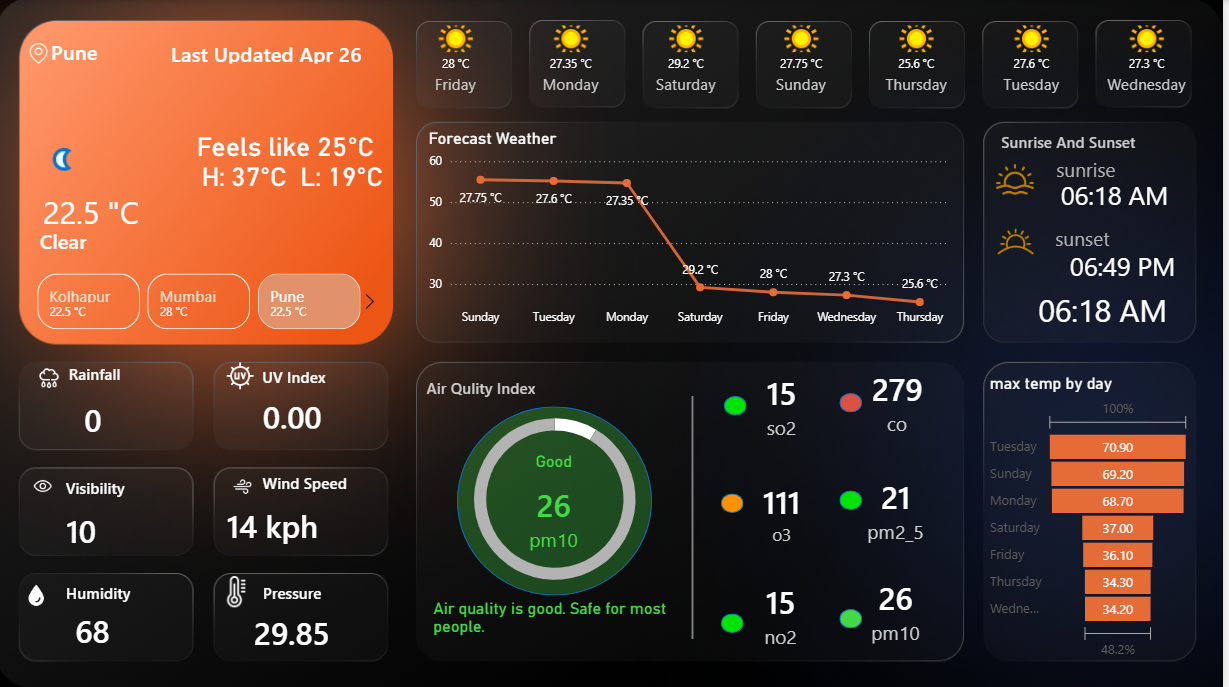

Layout of this report page (visuals, bound fields, positions):
{"tool":"powerbi","page":{"name":"Page 1","canvas":[1280,720],"ordinal":0},"visuals":[{"type":"shape","box":[1106.6,176.6,154.7,53.1],"z":0,"group":"g1"},{"type":"advancedSlicerVisual","fields":{"Values":["Locations.location.name"]},"box":[18.8,279.8,387.6,68.8],"z":0},{"type":"shape","box":[42.2,167.2,192.2,104.7],"z":1000},{"type":"shape","box":[1116,248.5,150,54.7],"z":1000,"group":"g1"},{"type":"shape","box":[1101.9,150,115.7,53.1],"z":2000,"group":"g1"},{"type":"shape","box":[42.2,220.4,123.5,59.4],"z":2000},{"type":"shape","box":[56.3,37.5,96.9,28.1],"z":3000},{"type":"shape","box":[1101.9,229.7,78.1,37.5],"z":3000,"group":"g1"},{"type":"shape","box":[181.3,39.1,212.6,29.7],"z":4000},{"type":"image","box":[34.4,42.2,21.9,26.6],"z":5000},{"type":"cardVisual","fields":{"Data":["Min(current.current.condition.icon)"]},"box":[18.8,100,106.3,98.5],"z":6000},{"type":"image","box":[28.1,495.5,43.8,21.9],"z":7000},{"type":"image","box":[35.9,381.4,40.6,25],"z":8000},{"type":"image","box":[234.4,600.2,34.4,32.8],"z":9000},{"type":"image","box":[239.1,497,37.5,20.3],"z":10000},{"type":"image","box":[31.3,608,23.4,25],"z":11000},{"type":"image","box":[234.4,376.7,42.2,29.7],"z":12000},{"type":"shape","box":[71.9,495.5,103.2,25],"z":13000},{"type":"shape","box":[75,376.7,106.3,25],"z":14000},{"type":"shape","box":[276.6,379.8,103.2,25],"z":15000},{"type":"shape","box":[71.9,603.3,109.4,29.7],"z":16000},{"type":"shape","box":[276.6,600.2,89.1,34.4],"z":17000},{"type":"shape","box":[276.6,489.2,109.4,28.1],"z":18000},{"type":"cardVisual","fields":{"Data":["Sum(current.current.humidity)"]},"box":[54.7,617.4,106.3,76.6],"z":19000},{"type":"cardVisual","fields":{"Data":["measure.wind_speed"]},"box":[212.6,508,193.8,76.6],"z":20000},{"type":"cardVisual","fields":{"Data":["Sum(current.current.precip_in)"]},"box":[64.1,401.7,82.8,68.8],"z":21000},{"type":"cardVisual","fields":{"Data":["Sum(current.current.vis_km)"]},"box":[45.3,517.3,92.2,67.2],"z":22000},{"type":"cardVisual","fields":{"Data":["Sum(current.current.uv)"]},"box":[250.1,401.7,136,62.5],"z":23000},{"type":"cardVisual","fields":{"Data":["Sum(current.current.pressure_in)"]},"box":[240.7,622.1,139.1,71.9],"z":24000},{"type":"advancedSlicerVisual","fields":{"Values":["forecast_day.Day_name"]},"box":[418.9,20.3,847.1,95.3],"z":25000},{"type":"lineChart","title":"Forecast Weather","fields":{"Y":["Sum(forecast_day.forecast.forecastday.day.avgtemp_c)"],"Category":["forecast_day.Day_name"]},"box":[447,134.4,551.7,214.1],"z":26000},{"type":"shape","box":[1045.6,128.2,204.8,39.1],"z":27000},{"type":"shape","box":[1083.2,295.4,154.7,53.1],"z":28000},{"type":"group","id":"g1","title":"Group 1","box":[1101.9,150,164.1,153.2],"z":29000},{"type":"image","box":[1033.1,167.2,59.4,39.1],"z":30000},{"type":"image","box":[1033.1,226.6,61,50],"z":31000},{"type":"funnel","title":" max  temp by day","fields":{"Category":["forecast_day.Day_name"],"Y":["Sum(forecast_day.forecast.forecastday.day.maxtemp_c)"]},"box":[1031.6,389.2,218.8,301.7],"z":32000},{"type":"shape","box":[447,386.1,136,34.4],"z":33000},{"type":"cardVisual","fields":{"Data":["Sum(current.current.air_quality.co)"]},"box":[880,367.3,120.4,103.2],"z":34000},{"type":"cardVisual","fields":{"Data":["Sum(current.current.air_quality.o3)"]},"box":[759.6,484.5,120.4,100],"z":35000},{"type":"cardVisual","fields":{"Data":["Sum(current.current.air_quality.pm2_5)"]},"box":[878.4,478.3,120.4,106.3],"z":36000},{"type":"cardVisual","fields":{"Data":["Sum(current.current.air_quality.pm10)"]},"box":[878.4,584.6,120.4,103.2],"z":37000},{"type":"cardVisual","fields":{"Data":["Sum(current.current.air_quality.so2)"]},"box":[759.6,368.9,120.4,109.4],"z":38000},{"type":"cardVisual","fields":{"Data":["Sum(current.current.air_quality.no2)"]},"box":[759.6,587.7,118.8,106.3],"z":39000},{"type":"shape","box":[759.6,412.6,23.4,20.3],"z":40000},{"type":"shape","box":[481.4,423.6,203.2,196.9],"z":41000},{"type":"shape","box":[880,511.1,23.4,20.3],"z":42000},{"type":"shape","box":[880,409.5,23.4,20.3],"z":43000},{"type":"shape","box":[756.5,639.3,23.4,20.3],"z":44000},{"type":"shape","box":[756.5,514.2,23.4,20.3],"z":45000},{"type":"shape","box":[880,634.6,23.4,20.3],"z":46000},{"type":"shape","box":[694,412.6,65.6,253.2],"z":47000},{"type":"donutChart","fields":{"Y":["Sum(current.current.air_quality.pm10)","measure.left_value_pm10"]},"box":[459.5,409.5,247,220.4],"z":48000},{"type":"cardVisual","fields":{"Data":["Sum(current.current.air_quality.pm10)"]},"box":[522,470.5,120.4,120.4],"z":49000},{"type":"cardVisual","fields":{"Data":["Sum(current.current.uv)"]},"box":[451.7,623.6,272,65.6],"z":50000},{"type":"card","fields":{"Values":["measure.Temp Details"]},"box":[195.4,123.5,228.2,86],"z":50001}]}

Visuals, with their boxes in screenshot pixels (x1, y1, x2, y2), scaled from the page's 1280x720 canvas onto the 1229x687 screenshot:
shape: <bbox>1063, 169, 1211, 219</bbox>
advancedSlicerVisual - Locations.location.name: <bbox>18, 267, 390, 333</bbox>
shape: <bbox>41, 160, 225, 259</bbox>
shape: <bbox>1072, 237, 1216, 289</bbox>
shape: <bbox>1058, 143, 1169, 194</bbox>
shape: <bbox>41, 210, 159, 267</bbox>
shape: <bbox>54, 36, 147, 63</bbox>
shape: <bbox>1058, 219, 1133, 255</bbox>
shape: <bbox>174, 37, 378, 66</bbox>
image: <bbox>33, 40, 54, 66</bbox>
cardVisual - Min(current.current.condition.icon): <bbox>18, 95, 120, 189</bbox>
image: <bbox>27, 473, 69, 494</bbox>
image: <bbox>34, 364, 73, 388</bbox>
image: <bbox>225, 573, 258, 604</bbox>
image: <bbox>230, 474, 266, 494</bbox>
image: <bbox>30, 580, 53, 604</bbox>
image: <bbox>225, 359, 266, 388</bbox>
shape: <bbox>69, 473, 168, 497</bbox>
shape: <bbox>72, 359, 174, 383</bbox>
shape: <bbox>266, 362, 365, 386</bbox>
shape: <bbox>69, 576, 174, 604</bbox>
shape: <bbox>266, 573, 351, 606</bbox>
shape: <bbox>266, 467, 371, 494</bbox>
cardVisual - Sum(current.current.humidity): <bbox>53, 589, 155, 662</bbox>
cardVisual - measure.wind_speed: <bbox>204, 485, 390, 558</bbox>
cardVisual - Sum(current.current.precip_in): <bbox>62, 383, 141, 449</bbox>
cardVisual - Sum(current.current.vis_km): <bbox>43, 494, 132, 558</bbox>
cardVisual - Sum(current.current.uv): <bbox>240, 383, 371, 443</bbox>
cardVisual - Sum(current.current.pressure_in): <bbox>231, 594, 365, 662</bbox>
advancedSlicerVisual - forecast_day.Day_name: <bbox>402, 19, 1216, 110</bbox>
"Forecast Weather" lineChart: <bbox>429, 128, 959, 333</bbox>
shape: <bbox>1004, 122, 1201, 160</bbox>
shape: <bbox>1040, 282, 1189, 333</bbox>
"Group 1" group: <bbox>1058, 143, 1216, 289</bbox>
image: <bbox>992, 160, 1049, 197</bbox>
image: <bbox>992, 216, 1051, 264</bbox>
" max  temp by day" funnel: <bbox>990, 371, 1201, 659</bbox>
shape: <bbox>429, 368, 560, 401</bbox>
cardVisual - Sum(current.current.air_quality.co): <bbox>845, 350, 961, 449</bbox>
cardVisual - Sum(current.current.air_quality.o3): <bbox>729, 462, 845, 558</bbox>
cardVisual - Sum(current.current.air_quality.pm2_5): <bbox>843, 456, 959, 558</bbox>
cardVisual - Sum(current.current.air_quality.pm10): <bbox>843, 558, 959, 656</bbox>
cardVisual - Sum(current.current.air_quality.so2): <bbox>729, 352, 845, 456</bbox>
cardVisual - Sum(current.current.air_quality.no2): <bbox>729, 561, 843, 662</bbox>
shape: <bbox>729, 394, 752, 413</bbox>
shape: <bbox>462, 404, 657, 592</bbox>
shape: <bbox>845, 488, 867, 507</bbox>
shape: <bbox>845, 391, 867, 410</bbox>
shape: <bbox>726, 610, 749, 629</bbox>
shape: <bbox>726, 491, 749, 510</bbox>
shape: <bbox>845, 606, 867, 625</bbox>
shape: <bbox>666, 394, 729, 635</bbox>
donutChart - Sum(current.current.air_quality.pm10) x measure.left_value_pm10: <bbox>441, 391, 678, 601</bbox>
cardVisual - Sum(current.current.air_quality.pm10): <bbox>501, 449, 617, 564</bbox>
cardVisual - Sum(current.current.uv): <bbox>434, 595, 695, 658</bbox>
card - measure.Temp Details: <bbox>188, 118, 407, 200</bbox>
